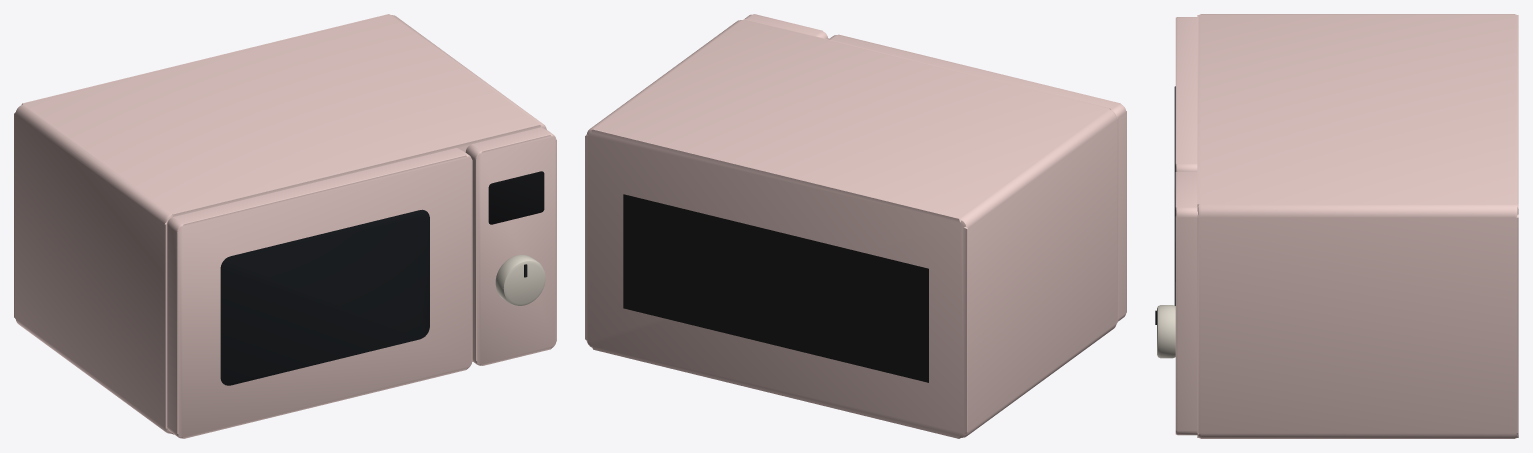
Rendered from MWJ23P.glb.
The picture shows the model from 3 angles, left to right: view 1: azimuth 30°, elevation 25°; view 2: azimuth 150°, elevation 25°; view 3: azimuth 270°, elevation 25°; orthographic projection. The views are drawn at different scales.
Parts seen in each view (by area): view 1: MWJ23P; view 2: MWJ23P; view 3: MWJ23P.
Boxes of the visible parts, x1,y1,x2,y2 form: MWJ23P: (14,14,556,438); MWJ23P: (585,14,1126,438); MWJ23P: (1155,14,1518,438).
Bounding box in the file's own units: 0.476 × 0.272 × 0.369.
